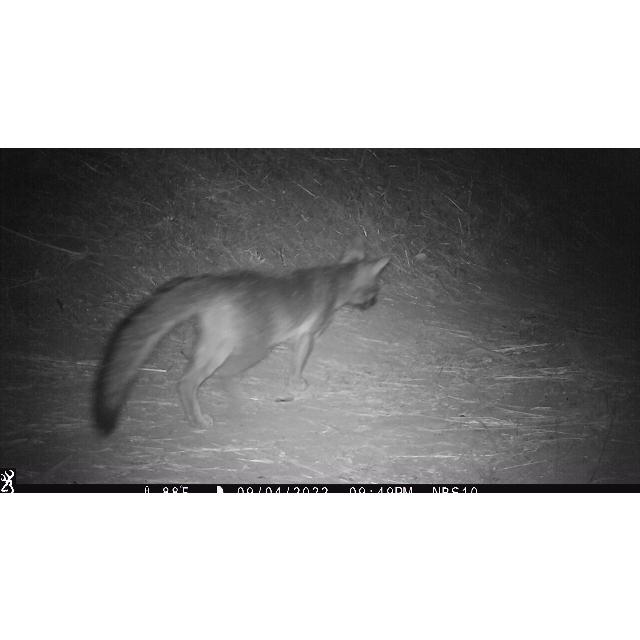animals: (91, 245, 393, 439)
